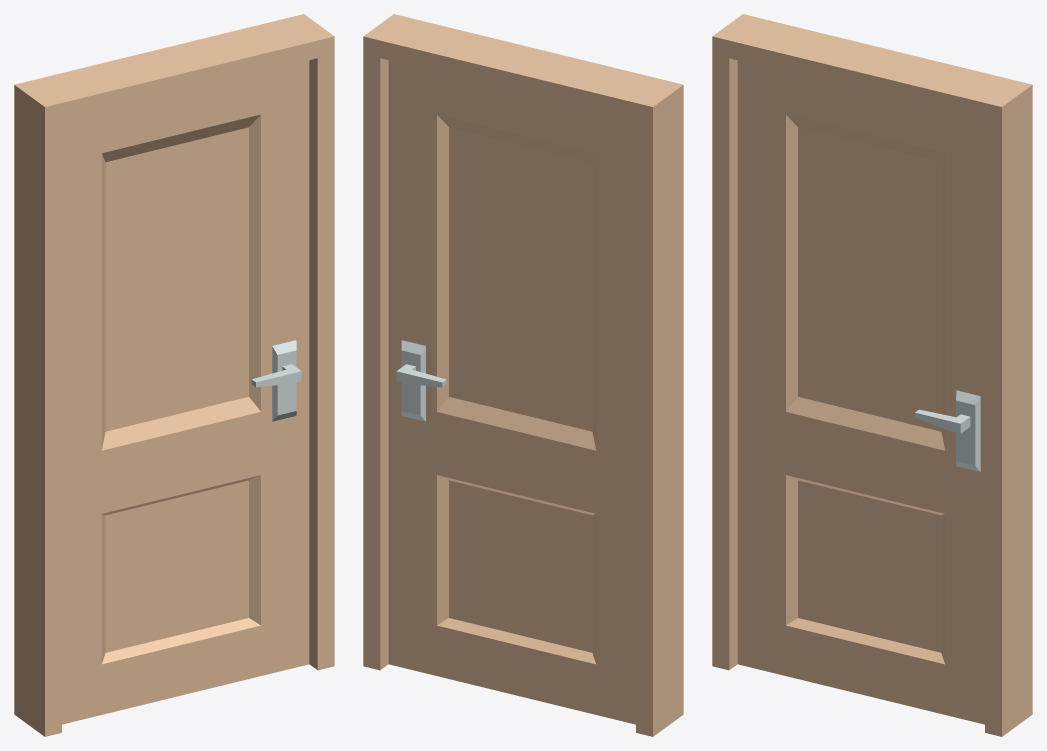
Rendered from doorway.glb.
3 views of the same model, side by side, from view 1: azimuth 30°, elevation 25°; view 2: azimuth 150°, elevation 25°; view 3: azimuth 330°, elevation 25° (orthographic).
Parts seen in each view (by area): view 1: door, doorway(Clone); view 2: door, doorway(Clone); view 3: door, doorway(Clone).
Boxes of the visible parts, x1,y1,x2,y2 form: door: (62,60,309,724); doorway(Clone): (14,14,334,736); door: (388,60,635,724); doorway(Clone): (363,14,683,736); door: (737,60,984,724); doorway(Clone): (712,14,1032,736).
Size of the model in its own units: 0.9866 by 2.05 by 0.2302.
2 materials, 2 textured.
